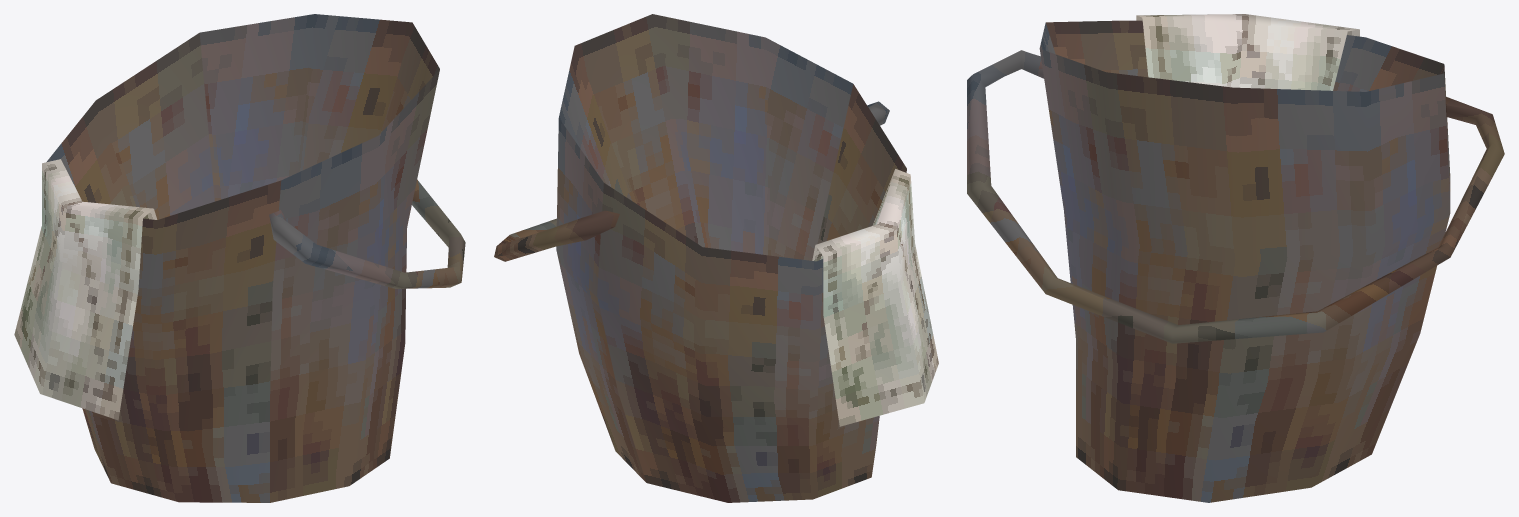
Rendered from a-buck-1.glb.
The picture shows the model from 3 angles, left to right: view 1: azimuth 30°, elevation 25°; view 2: azimuth 150°, elevation 25°; view 3: azimuth 270°, elevation 25°; orthographic projection. The views are drawn at different scales.
Parts seen in each view (by area): view 1: a_buck_1; view 2: a_buck_1; view 3: a_buck_1.
Part boxes in pixels (left/top/right/bottom): a_buck_1: left=14, top=14, right=465, bottom=502; a_buck_1: left=494, top=14, right=938, bottom=502; a_buck_1: left=967, top=14, right=1504, bottom=502.
Size of the model in its own units: 90 by 81 by 89.
2 materials, 2 textured.
